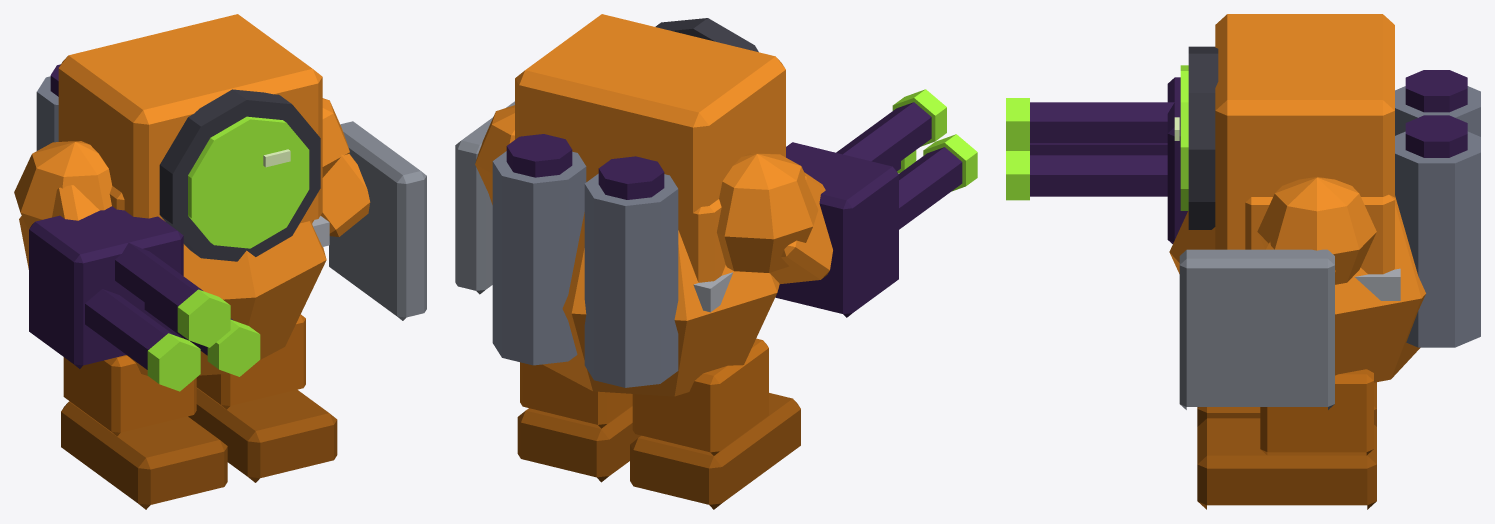
The model's file is r11_mini_hazmat_gunner.glb.
3 views of the same model, side by side, from view 1: azimuth 30°, elevation 25°; view 2: azimuth 150°, elevation 25°; view 3: azimuth 270°, elevation 25° (orthographic). The views are drawn at different scales.
Parts seen in each view (by area): view 1: r11_mini_hazmat_gunner_mesh; view 2: r11_mini_hazmat_gunner_mesh; view 3: r11_mini_hazmat_gunner_mesh.
Boxes of the visible parts, x1,y1,x2,y2 form: r11_mini_hazmat_gunner_mesh: (14, 14, 426, 509); r11_mini_hazmat_gunner_mesh: (455, 14, 977, 509); r11_mini_hazmat_gunner_mesh: (1006, 14, 1480, 509).
Size of the model in its own units: 3.62 by 3.8 by 3.99.
Materials: 1 (1 with a texture image).
